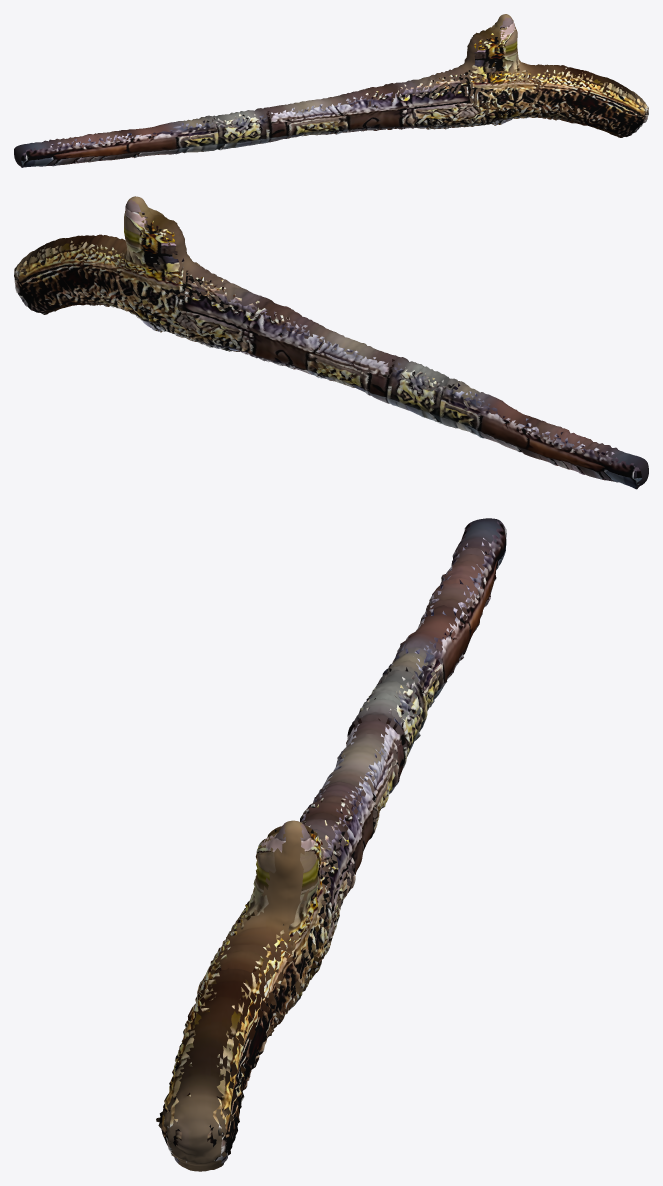
The model's file is kfl-2169.glb.
3 renders of one model, top to bottom at view 1: azimuth 30°, elevation 25°; view 2: azimuth 150°, elevation 25°; view 3: azimuth 270°, elevation 25°, orthographic. The views are drawn at different scales.
Visible parts, largest first — view 1: kfl-2169; view 2: kfl-2169; view 3: kfl-2169.
Part boxes in pixels (x1=…): kfl-2169: x1=14, y1=14, x2=648, y2=167; kfl-2169: x1=14, y1=196, x2=648, y2=489; kfl-2169: x1=156, y1=518, x2=506, y2=1171.
Size of the model in its own units: 0.9877 by 0.2173 by 0.2691.
Materials: 4 (4 with a texture image).
